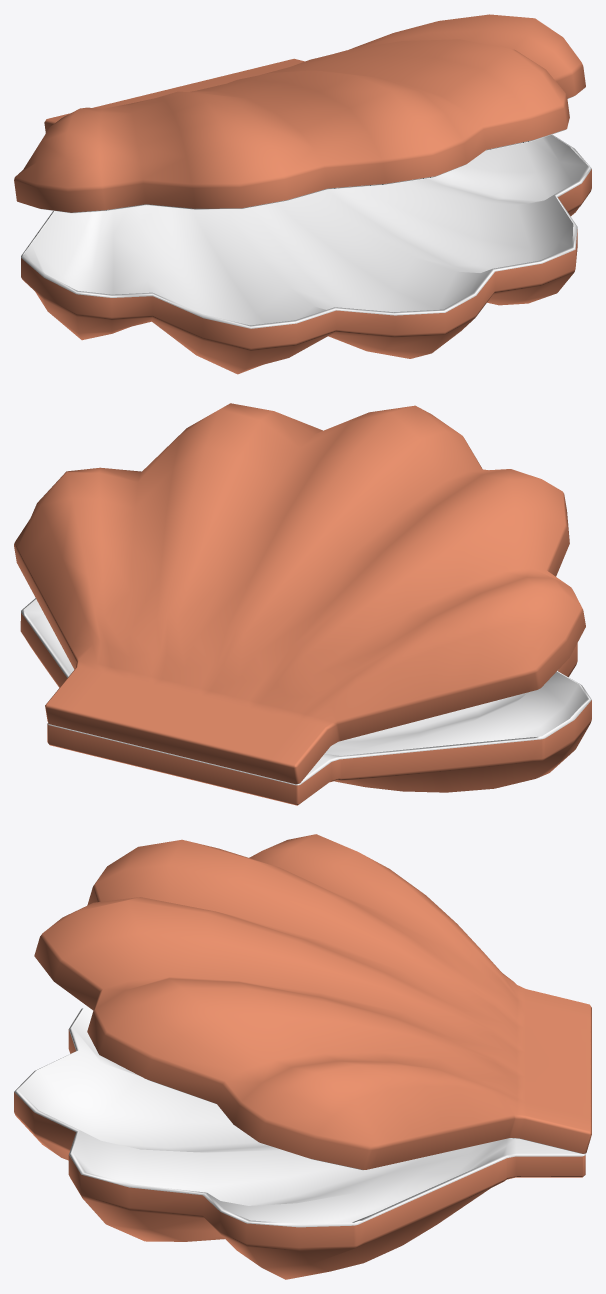
The model's file is Scallops_Empty_1.fbx.
3 views of the same model, one above another, from view 1: azimuth 30°, elevation 25°; view 2: azimuth 150°, elevation 25°; view 3: azimuth 270°, elevation 25° (orthographic). The views are drawn at different scales.
Visible parts, largest first — view 1: Scallops_Empty_1; view 2: Scallops_Empty_1; view 3: Scallops_Empty_1.
Part boxes in pixels (left/top/right/bottom): Scallops_Empty_1: left=14, top=14, right=591, bottom=374; Scallops_Empty_1: left=14, top=403, right=591, bottom=805; Scallops_Empty_1: left=14, top=834, right=591, bottom=1279.
Bounding box in the file's own units: 8.08 × 3.79 × 7.28.
